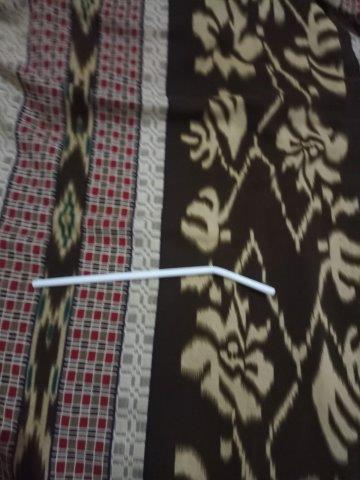sedotan: (32, 266, 275, 295)
